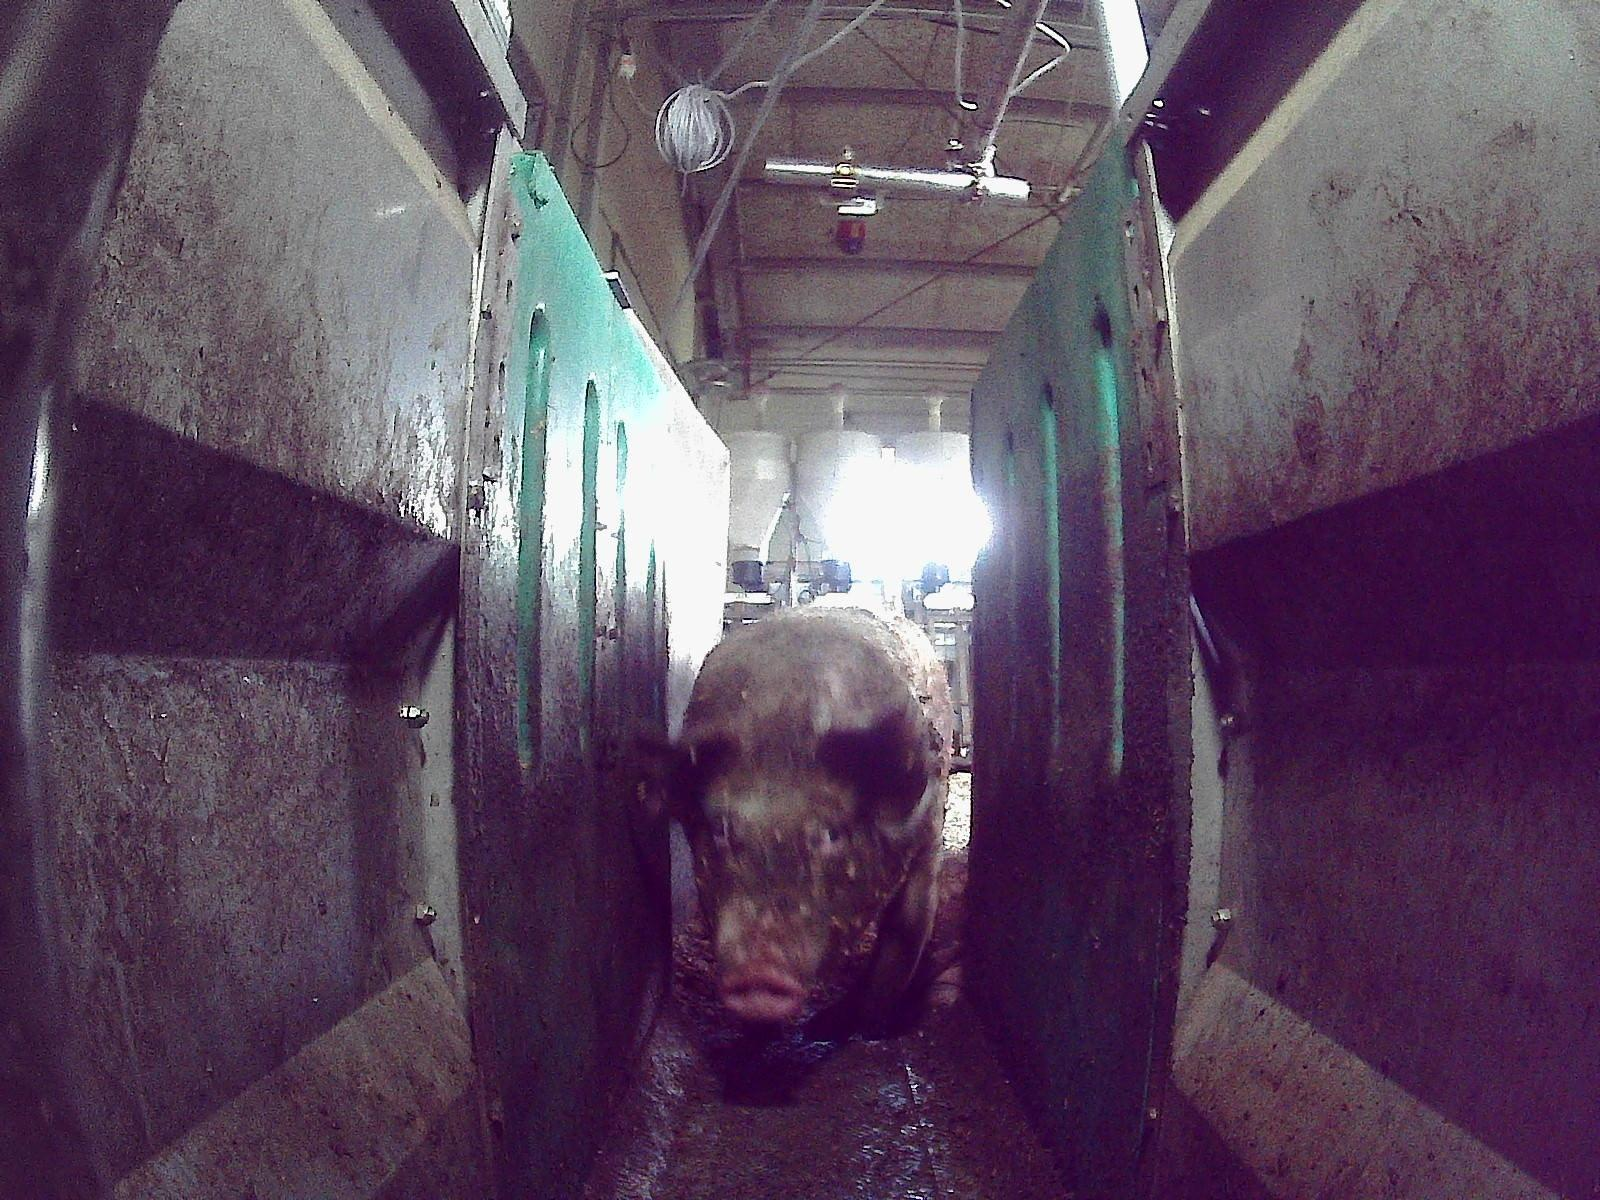Face: (683, 733, 895, 1020)
